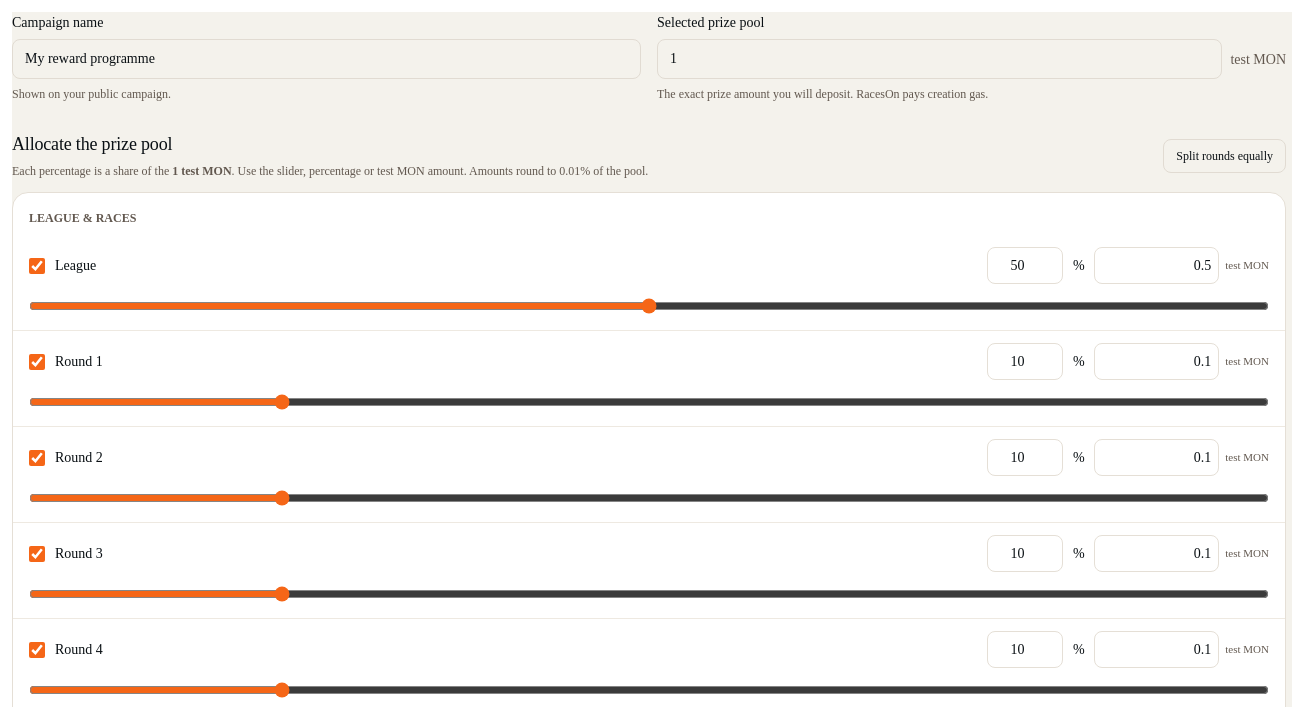
Scenario: links league amounts and sliders and recalculates amounts when the pool changes
Replace the text in the field named "League · test MON" with "0.7" at (1157, 266), box [1094,247,1219,284]
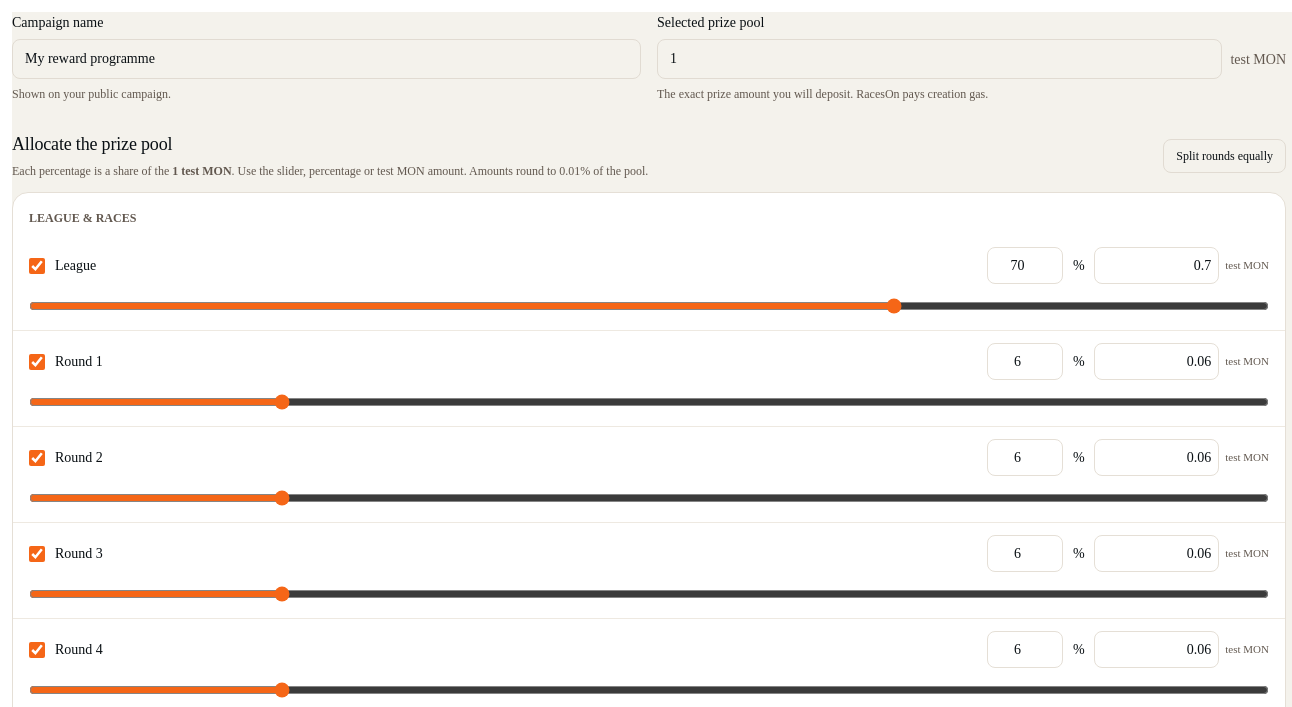
Expected: the slider named "League prize share" holds "7000", [29,294,1269,318]
Expected: the number field named "League %" holds "70", [987,247,1063,284]
Expected: the field named "Round 1 · test MON" holds "0.06", [1094,343,1219,380]
Replace the text in the field named "Total budget · test MON" with "2" at (940, 59), box [657,39,1222,79]
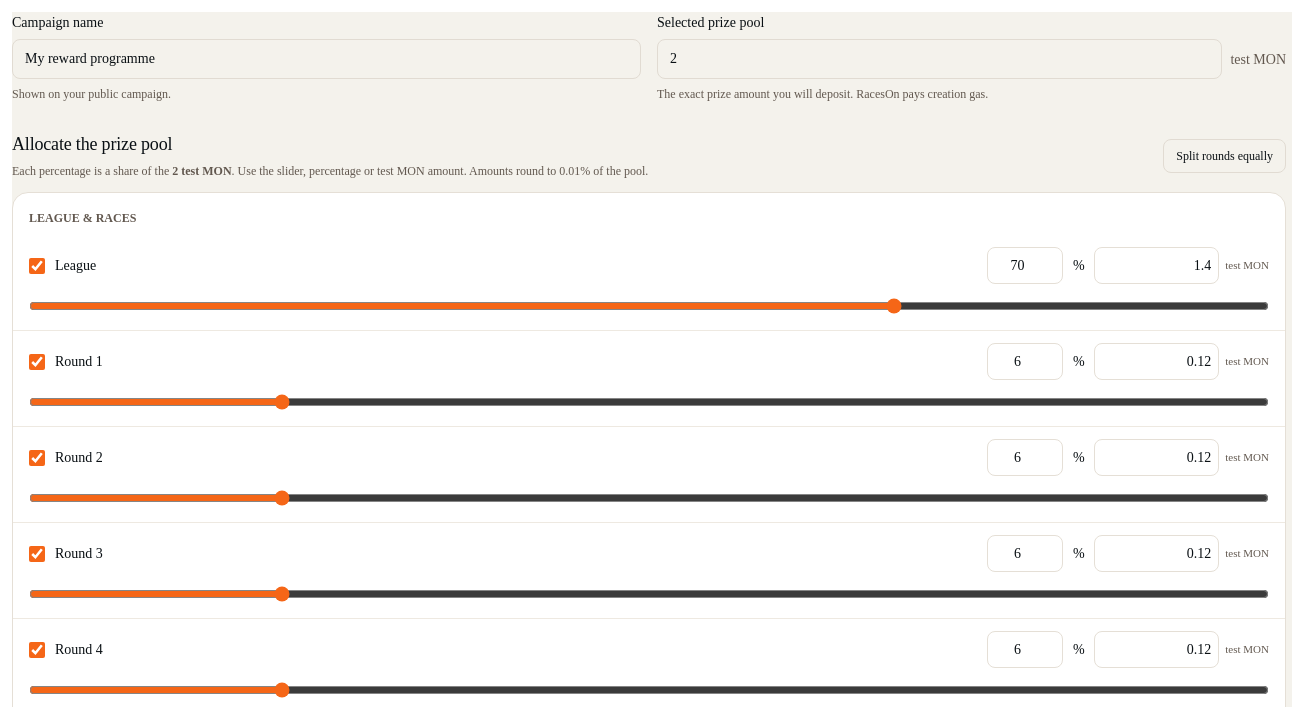
Expected: the number field named "League %" holds "70", [987,247,1063,284]
Expected: the field named "League · test MON" holds "1.4", [1094,247,1219,284]
Expected: the field named "Round 1 · test MON" holds "0.12", [1094,343,1219,380]
Set the slider named "Round 1 prize share" to "2000" at (853, 402), box [29,390,1269,414]
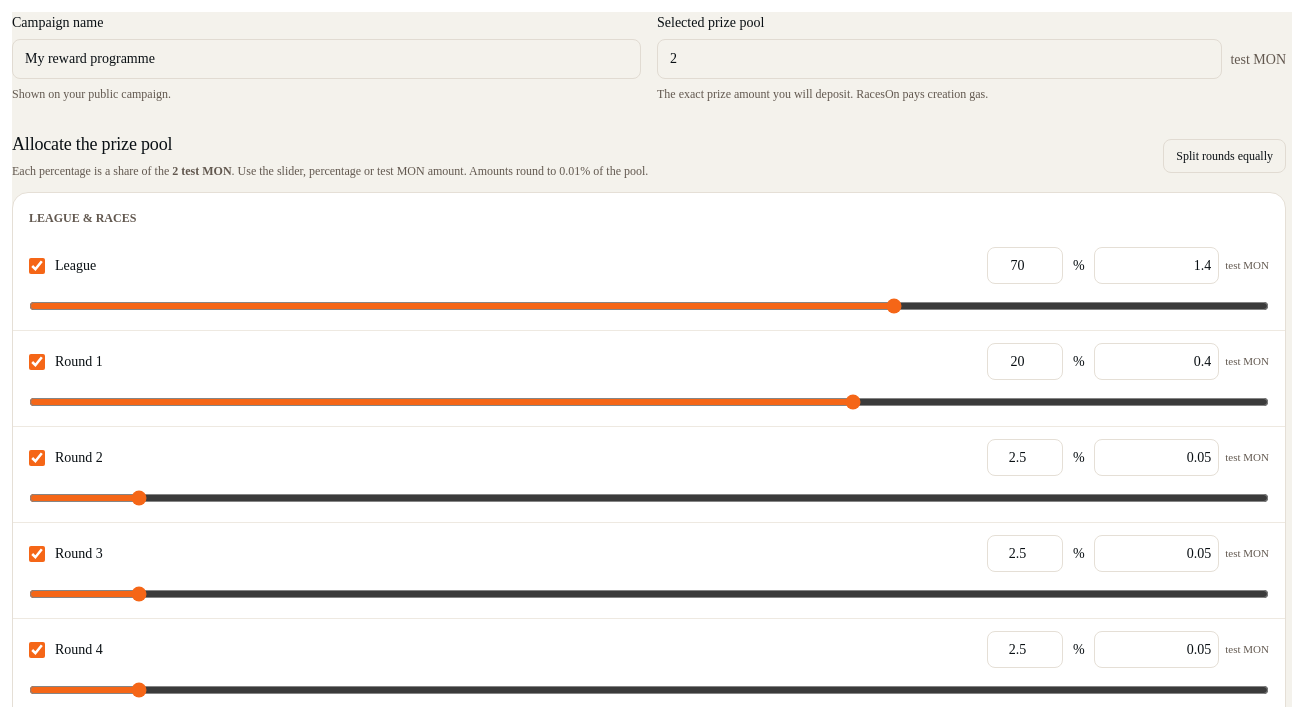
Expected: the number field named "Round 1 %" holds "20", [987,343,1063,380]
Expected: the field named "Round 1 · test MON" holds "0.4"
Replace the text in the field named "Round 1 · test MON" with "0.8" at (1157, 362), box [1094,343,1219,380]
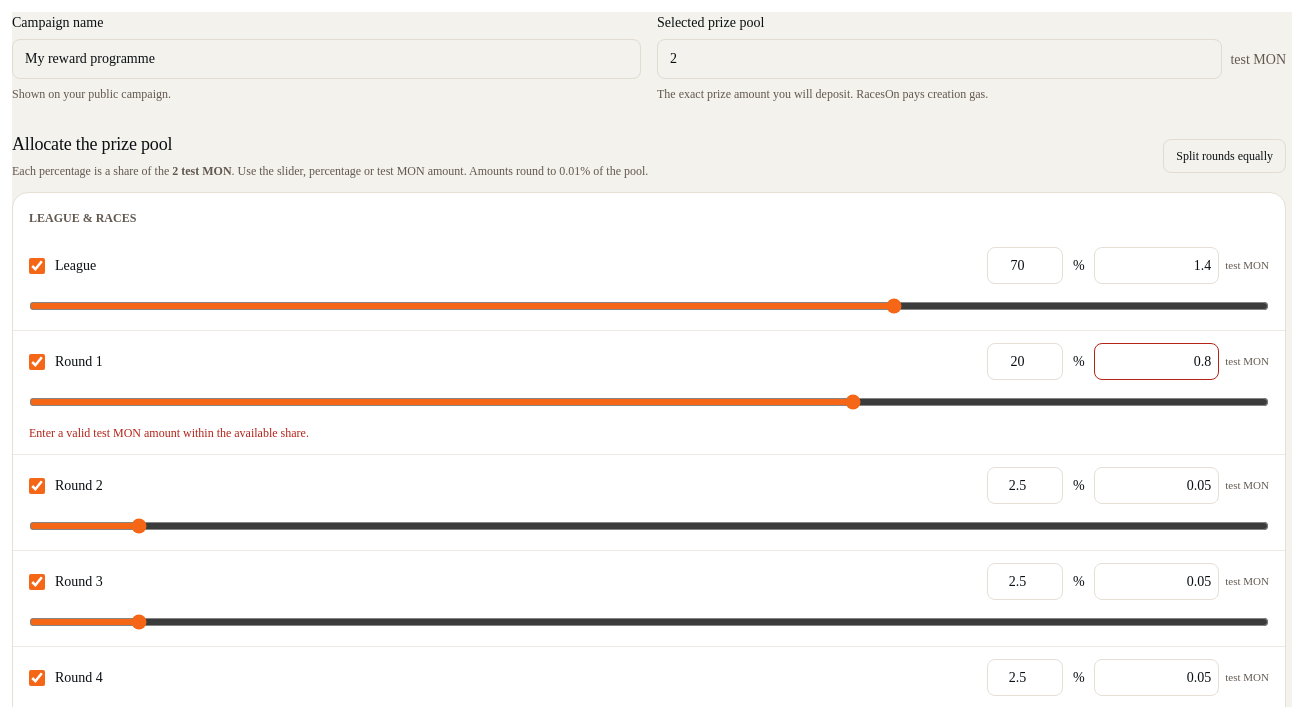
Expected: the message "Enter a valid test MON amount within the available share." is shown, [29,426,309,440]
